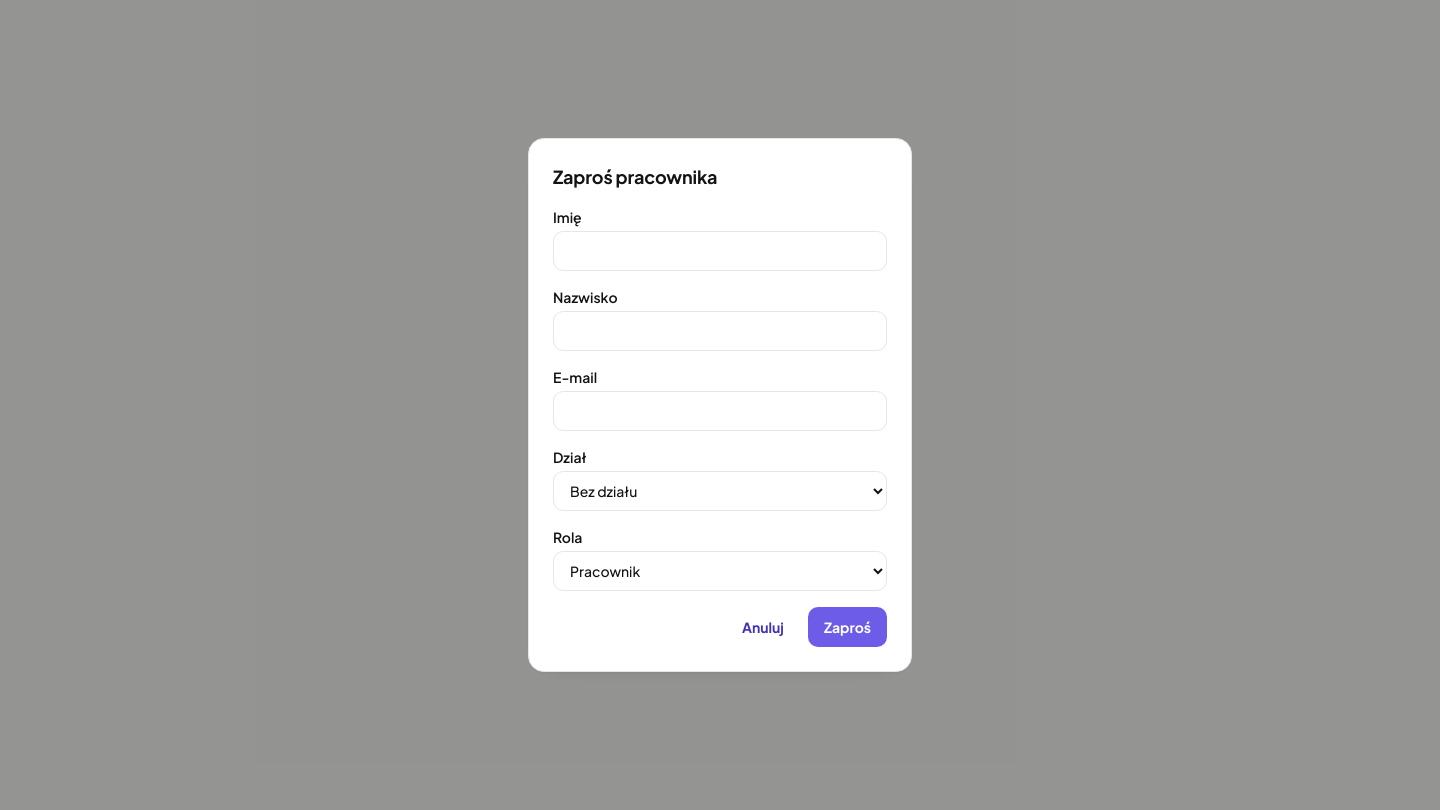
InviteUserModal › limit licencji (409 SEAT_LIMIT) › pokazuje komunikat z liczbą pozostałych miejsc i odsyłacz do ustawień (zmiana planu)
Type "Jan" into the field labelled "Imię" at (720, 251), box [553,231,887,271]
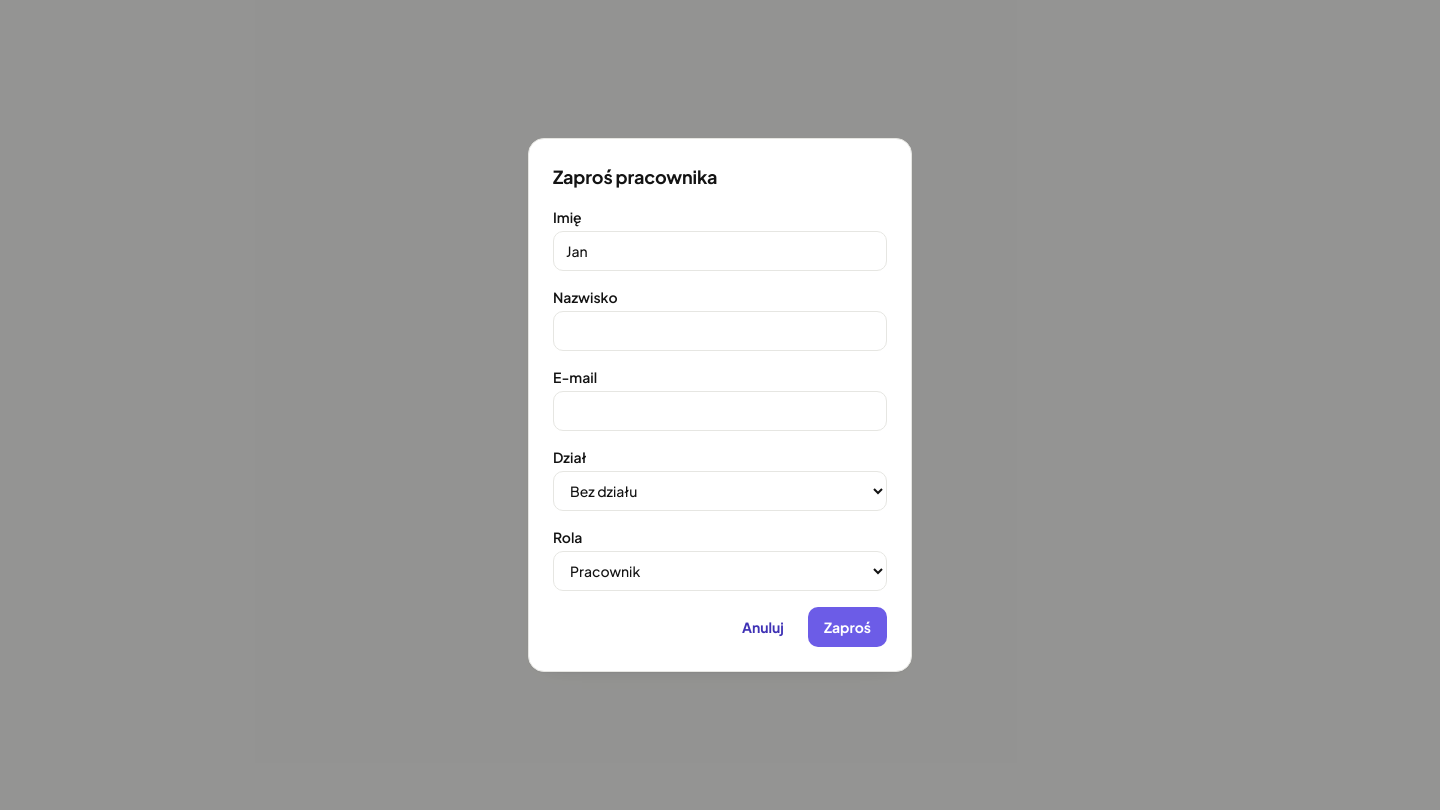
Type "Kowalski" into the field labelled "Nazwisko" at (720, 331), box [553,311,887,351]
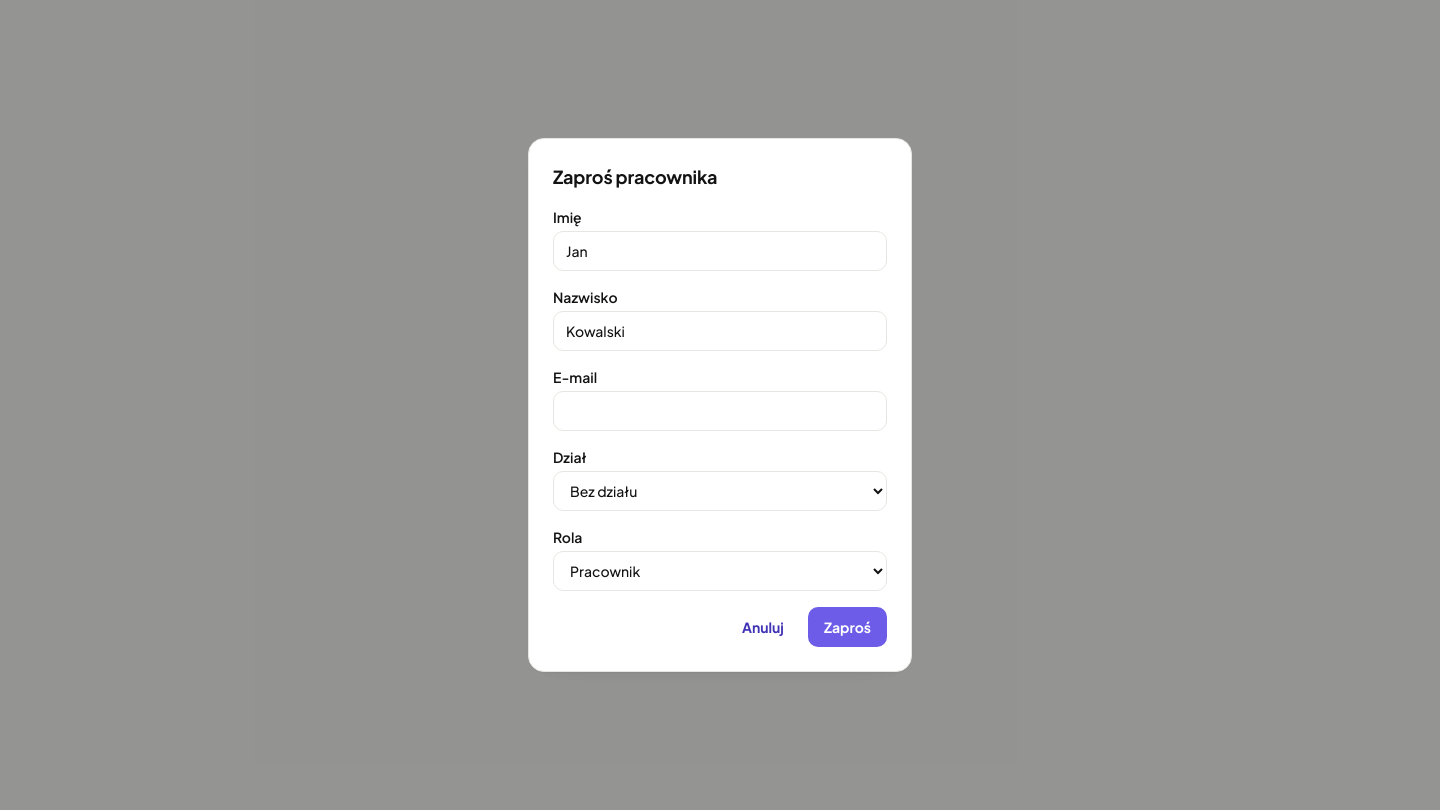
Type "nowy@test.pl" into the field labelled "E-mail" at (720, 411), box [553,391,887,431]
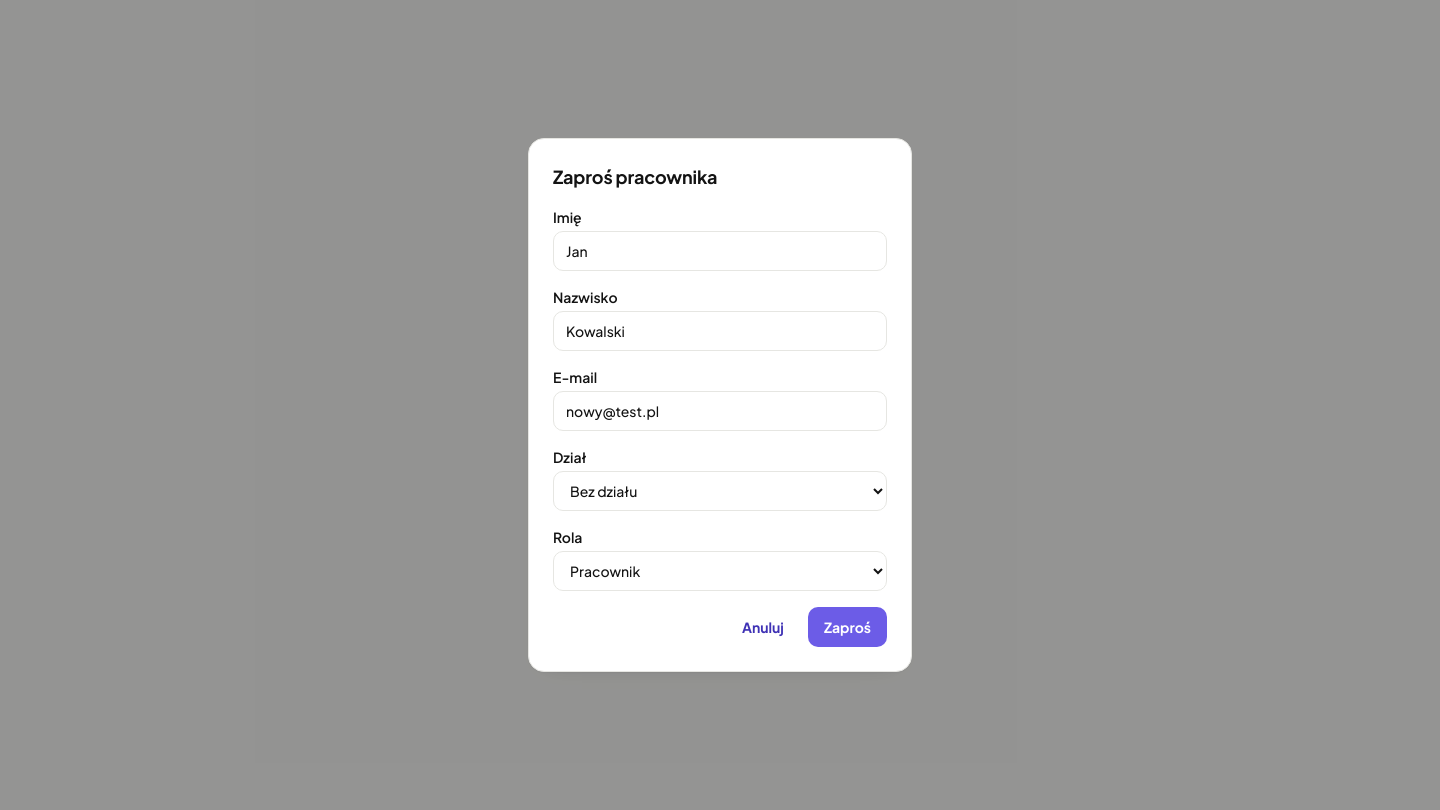
Click the button "Zaproś" at (847, 627), box [808,607,887,647]
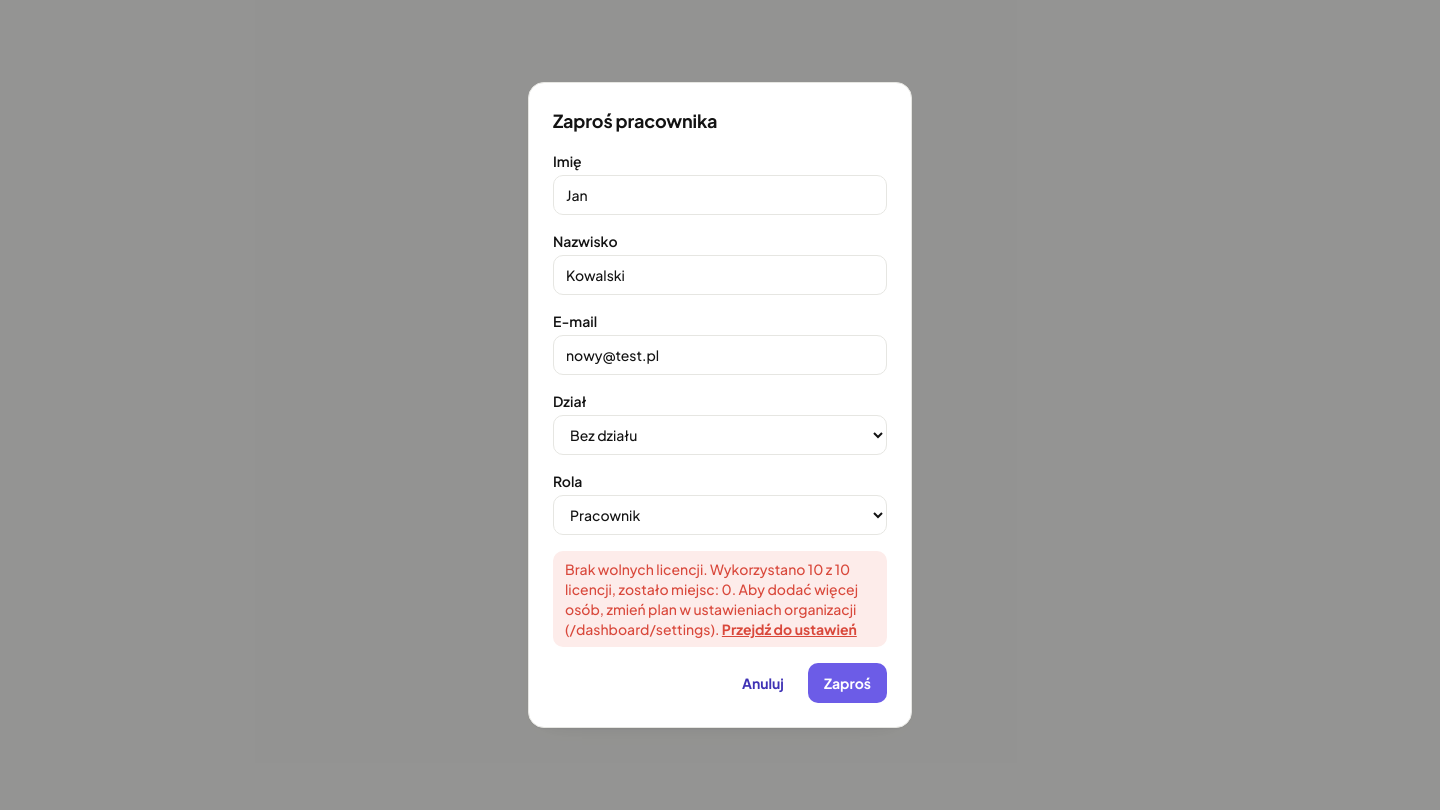
Check: the message shows "zostało miejsc: 0", box [565,560,858,638]
